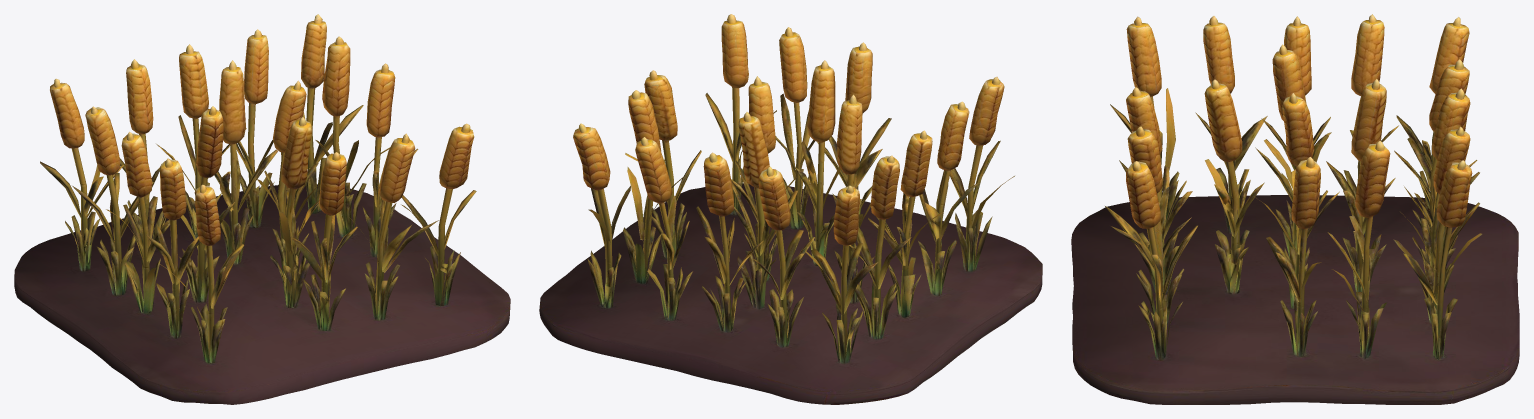
File: golden_wheat.glb
3 views of the same model, side by side, from view 1: azimuth 30°, elevation 25°; view 2: azimuth 150°, elevation 25°; view 3: azimuth 270°, elevation 25° (orthographic). The views are drawn at different scales.
Parts seen in each view (by area): view 1: mesh_node; view 2: mesh_node; view 3: mesh_node.
Boxes of the visible parts, x1,y1,x2,y2 form: mesh_node: (14,14,510,404); mesh_node: (539,14,1042,404); mesh_node: (1071,14,1519,404).
Bounding box in the file's own units: 1 × 0.5781 × 0.9785.
Materials: 1 (1 with a texture image).
